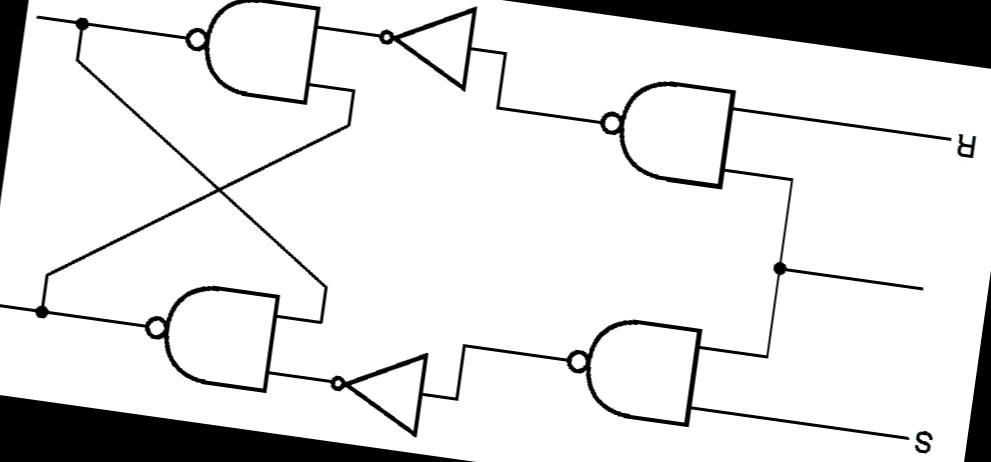nand: (126, 262, 300, 407), (580, 58, 750, 199), (552, 300, 716, 437), (165, 0, 344, 116)
not: (315, 332, 449, 442), (354, 0, 491, 98)
